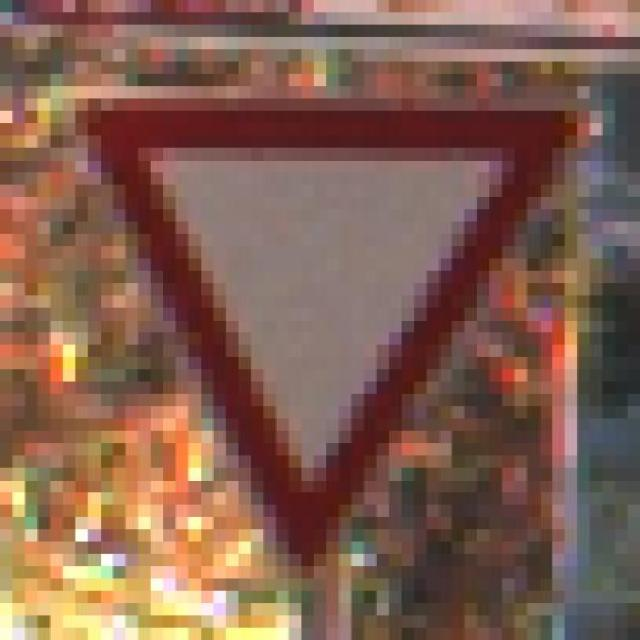Give Way: (75, 74, 590, 591)
